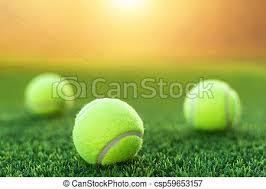tennis_ball: (71, 97, 143, 166), (182, 79, 242, 133), (25, 71, 74, 119)
